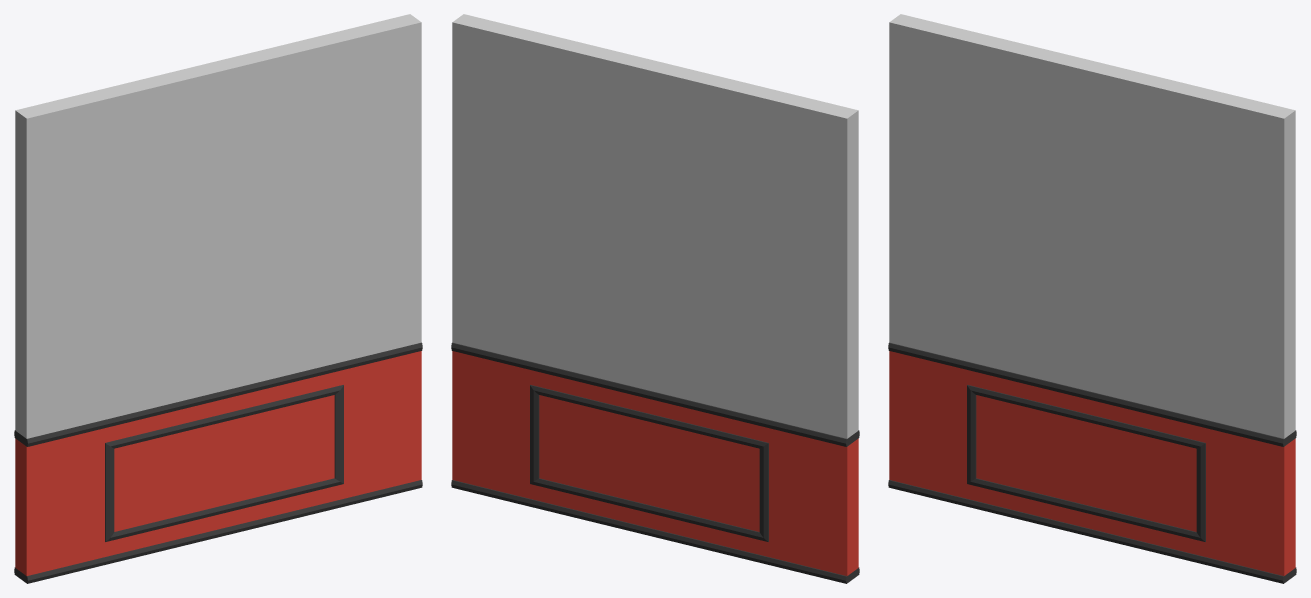
File: Dojo Wall 1.fbx
3 renders of one model, left to right at view 1: azimuth 30°, elevation 25°; view 2: azimuth 150°, elevation 25°; view 3: azimuth 330°, elevation 25°, orthographic.
Visible parts, largest first — view 1: Dojo Wall 1; view 2: Dojo Wall 1; view 3: Dojo Wall 1.
Part boxes in pixels (x1=…): Dojo Wall 1: x1=14, y1=14, x2=422, y2=583; Dojo Wall 1: x1=451, y1=14, x2=859, y2=583; Dojo Wall 1: x1=888, y1=14, x2=1296, y2=583.
Bounding box in the file's own units: 2000 × 2250 × 121.
